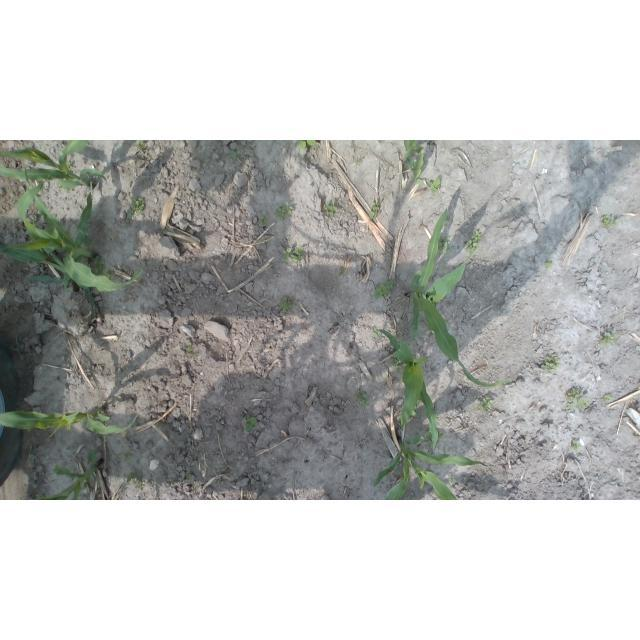Maize: (405, 205, 511, 387), (2, 174, 145, 308), (373, 437, 495, 500), (378, 329, 438, 451), (0, 141, 108, 191), (0, 406, 138, 438), (35, 450, 106, 500), (400, 140, 425, 182)
Weeds: (94, 257, 114, 280), (127, 198, 145, 220), (282, 248, 305, 263), (541, 355, 560, 373), (275, 202, 293, 220), (375, 281, 393, 298), (126, 471, 142, 489), (424, 431, 442, 446), (600, 332, 617, 347), (480, 396, 495, 413), (355, 390, 370, 407), (279, 296, 294, 313), (601, 214, 619, 228), (437, 238, 451, 254), (325, 200, 339, 216), (429, 177, 442, 193), (186, 343, 199, 359), (245, 415, 257, 432), (370, 202, 381, 219), (567, 390, 583, 401), (297, 141, 315, 150), (391, 356, 401, 372), (467, 240, 478, 253), (470, 231, 482, 242), (576, 400, 589, 410), (134, 141, 148, 150), (571, 440, 581, 452), (123, 453, 134, 463), (259, 215, 269, 225), (448, 474, 457, 484), (230, 150, 239, 159), (603, 394, 613, 402), (373, 327, 380, 338), (544, 262, 552, 269), (186, 472, 193, 480), (567, 403, 574, 410), (338, 269, 344, 276), (356, 159, 363, 165)
